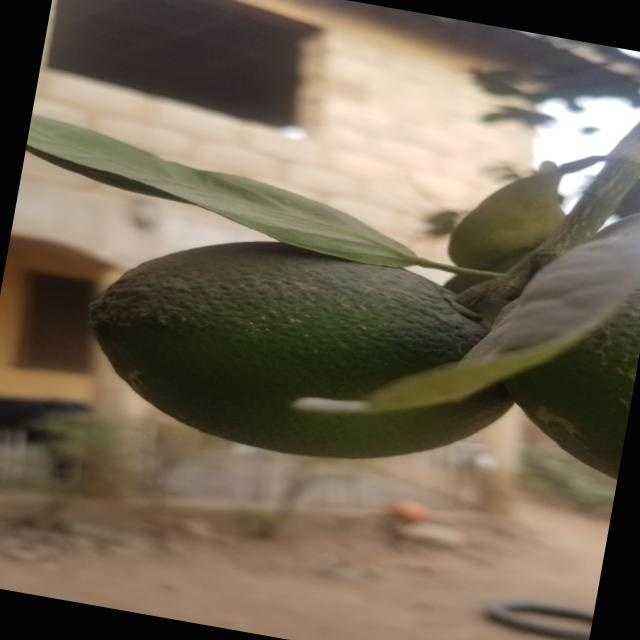agrume: (76, 224, 526, 480), (475, 240, 640, 478)
